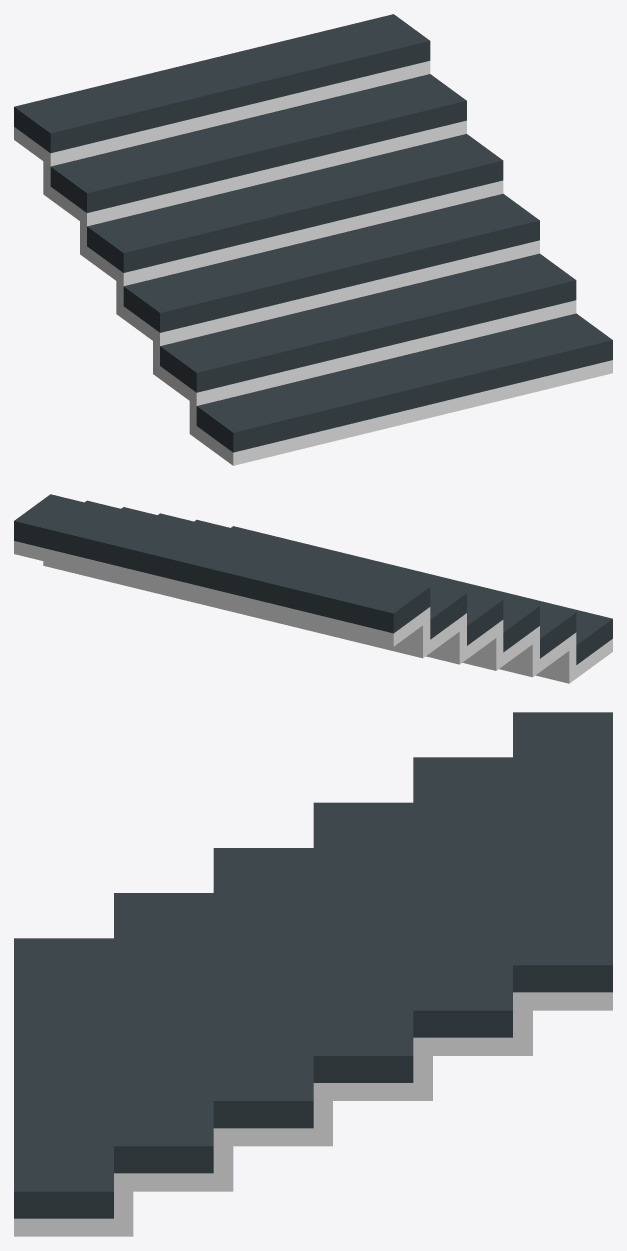
Rendered from StairsLongV2W.fbx.
The picture shows the model from 3 angles, top to bottom: view 1: azimuth 30°, elevation 25°; view 2: azimuth 150°, elevation 25°; view 3: azimuth 270°, elevation 25°; orthographic projection. The views are drawn at different scales.
Visible parts, largest first — view 1: StairsLongV2W; view 2: StairsLongV2W; view 3: StairsLongV2W.
Part boxes in pixels (x1,y1,x2,y2): StairsLongV2W: (14, 14, 612, 465); StairsLongV2W: (14, 494, 612, 683); StairsLongV2W: (14, 712, 612, 1236).
Size of the model in its own units: 200 by 100 by 200.
